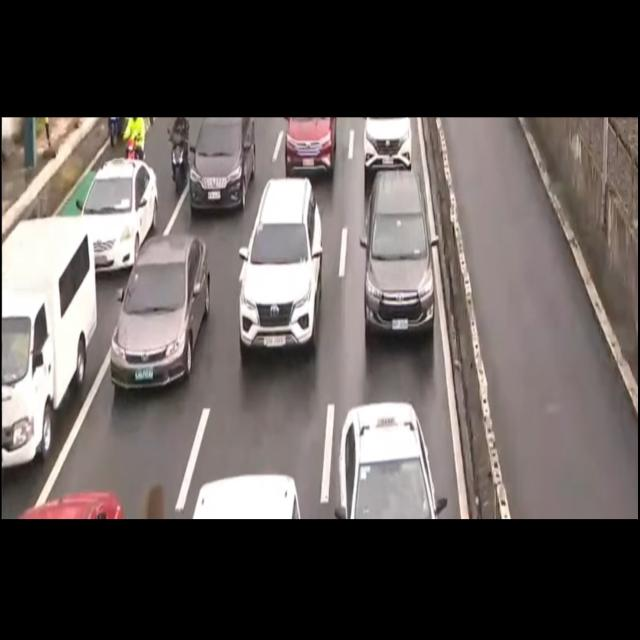Motorcycle: (166, 118, 191, 204), (121, 111, 148, 169)
Pick-up: (0, 219, 93, 462)
SUV: (240, 185, 325, 354), (361, 169, 431, 341), (187, 117, 255, 218), (357, 118, 414, 186), (290, 120, 334, 178)
Sedan: (108, 233, 210, 397), (335, 400, 444, 526), (80, 157, 158, 279)
